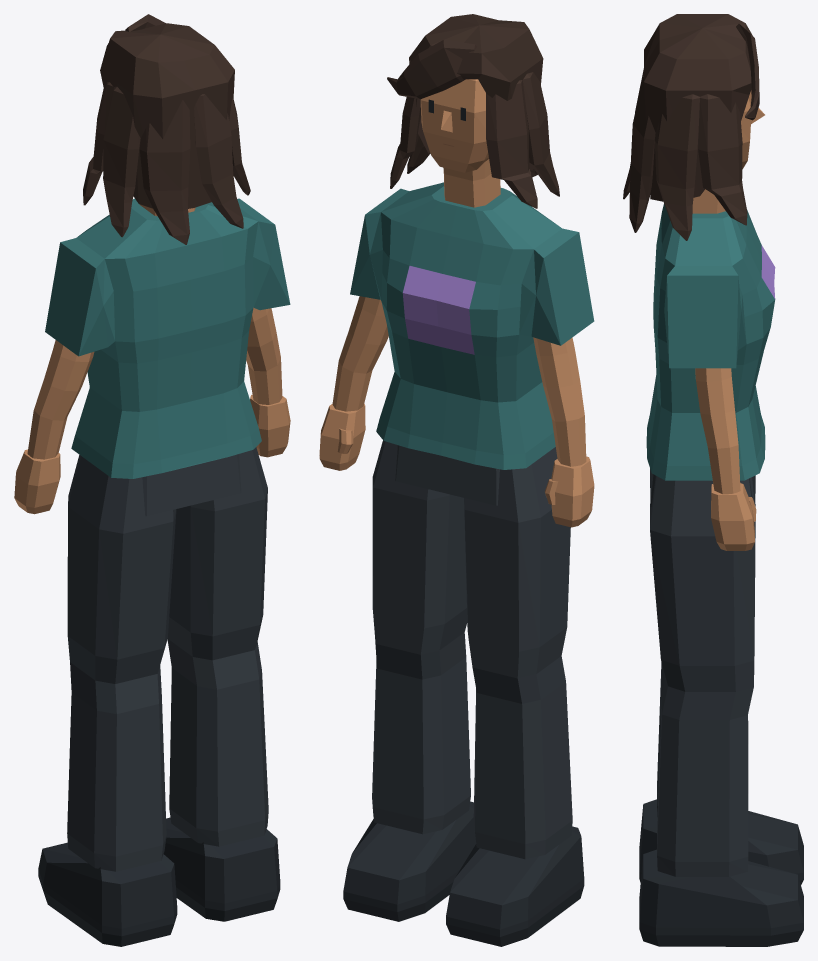
File: lwf_performer_female_body_v1.glb
3 views of the same model, side by side, from view 1: azimuth 30°, elevation 25°; view 2: azimuth 150°, elevation 25°; view 3: azimuth 270°, elevation 25° (orthographic).
Visible parts, largest first — view 1: LWF_Performer_BodyCore, LWF_Performer_IdleLeftArm, LWF_Performer_IdleRightArm; view 2: LWF_Performer_BodyCore, LWF_Performer_IdleLeftArm, LWF_Performer_IdleRightArm; view 3: LWF_Performer_BodyCore, LWF_Performer_IdleRightArm.
Part boxes in pixels (x1,y1,x2,y2): LWF_Performer_BodyCore: (38, 14, 290, 946); LWF_Performer_IdleLeftArm: (14, 340, 94, 514); LWF_Performer_IdleRightArm: (246, 307, 290, 457); LWF_Performer_BodyCore: (343, 14, 594, 946); LWF_Performer_IdleLeftArm: (533, 337, 594, 527); LWF_Performer_IdleRightArm: (319, 296, 388, 470); LWF_Performer_BodyCore: (623, 14, 803, 946); LWF_Performer_IdleRightArm: (695, 368, 756, 550).
Size of the model in its own units: 0.55 by 1.75 by 0.3289.
Materials: 1 (1 with a texture image).
